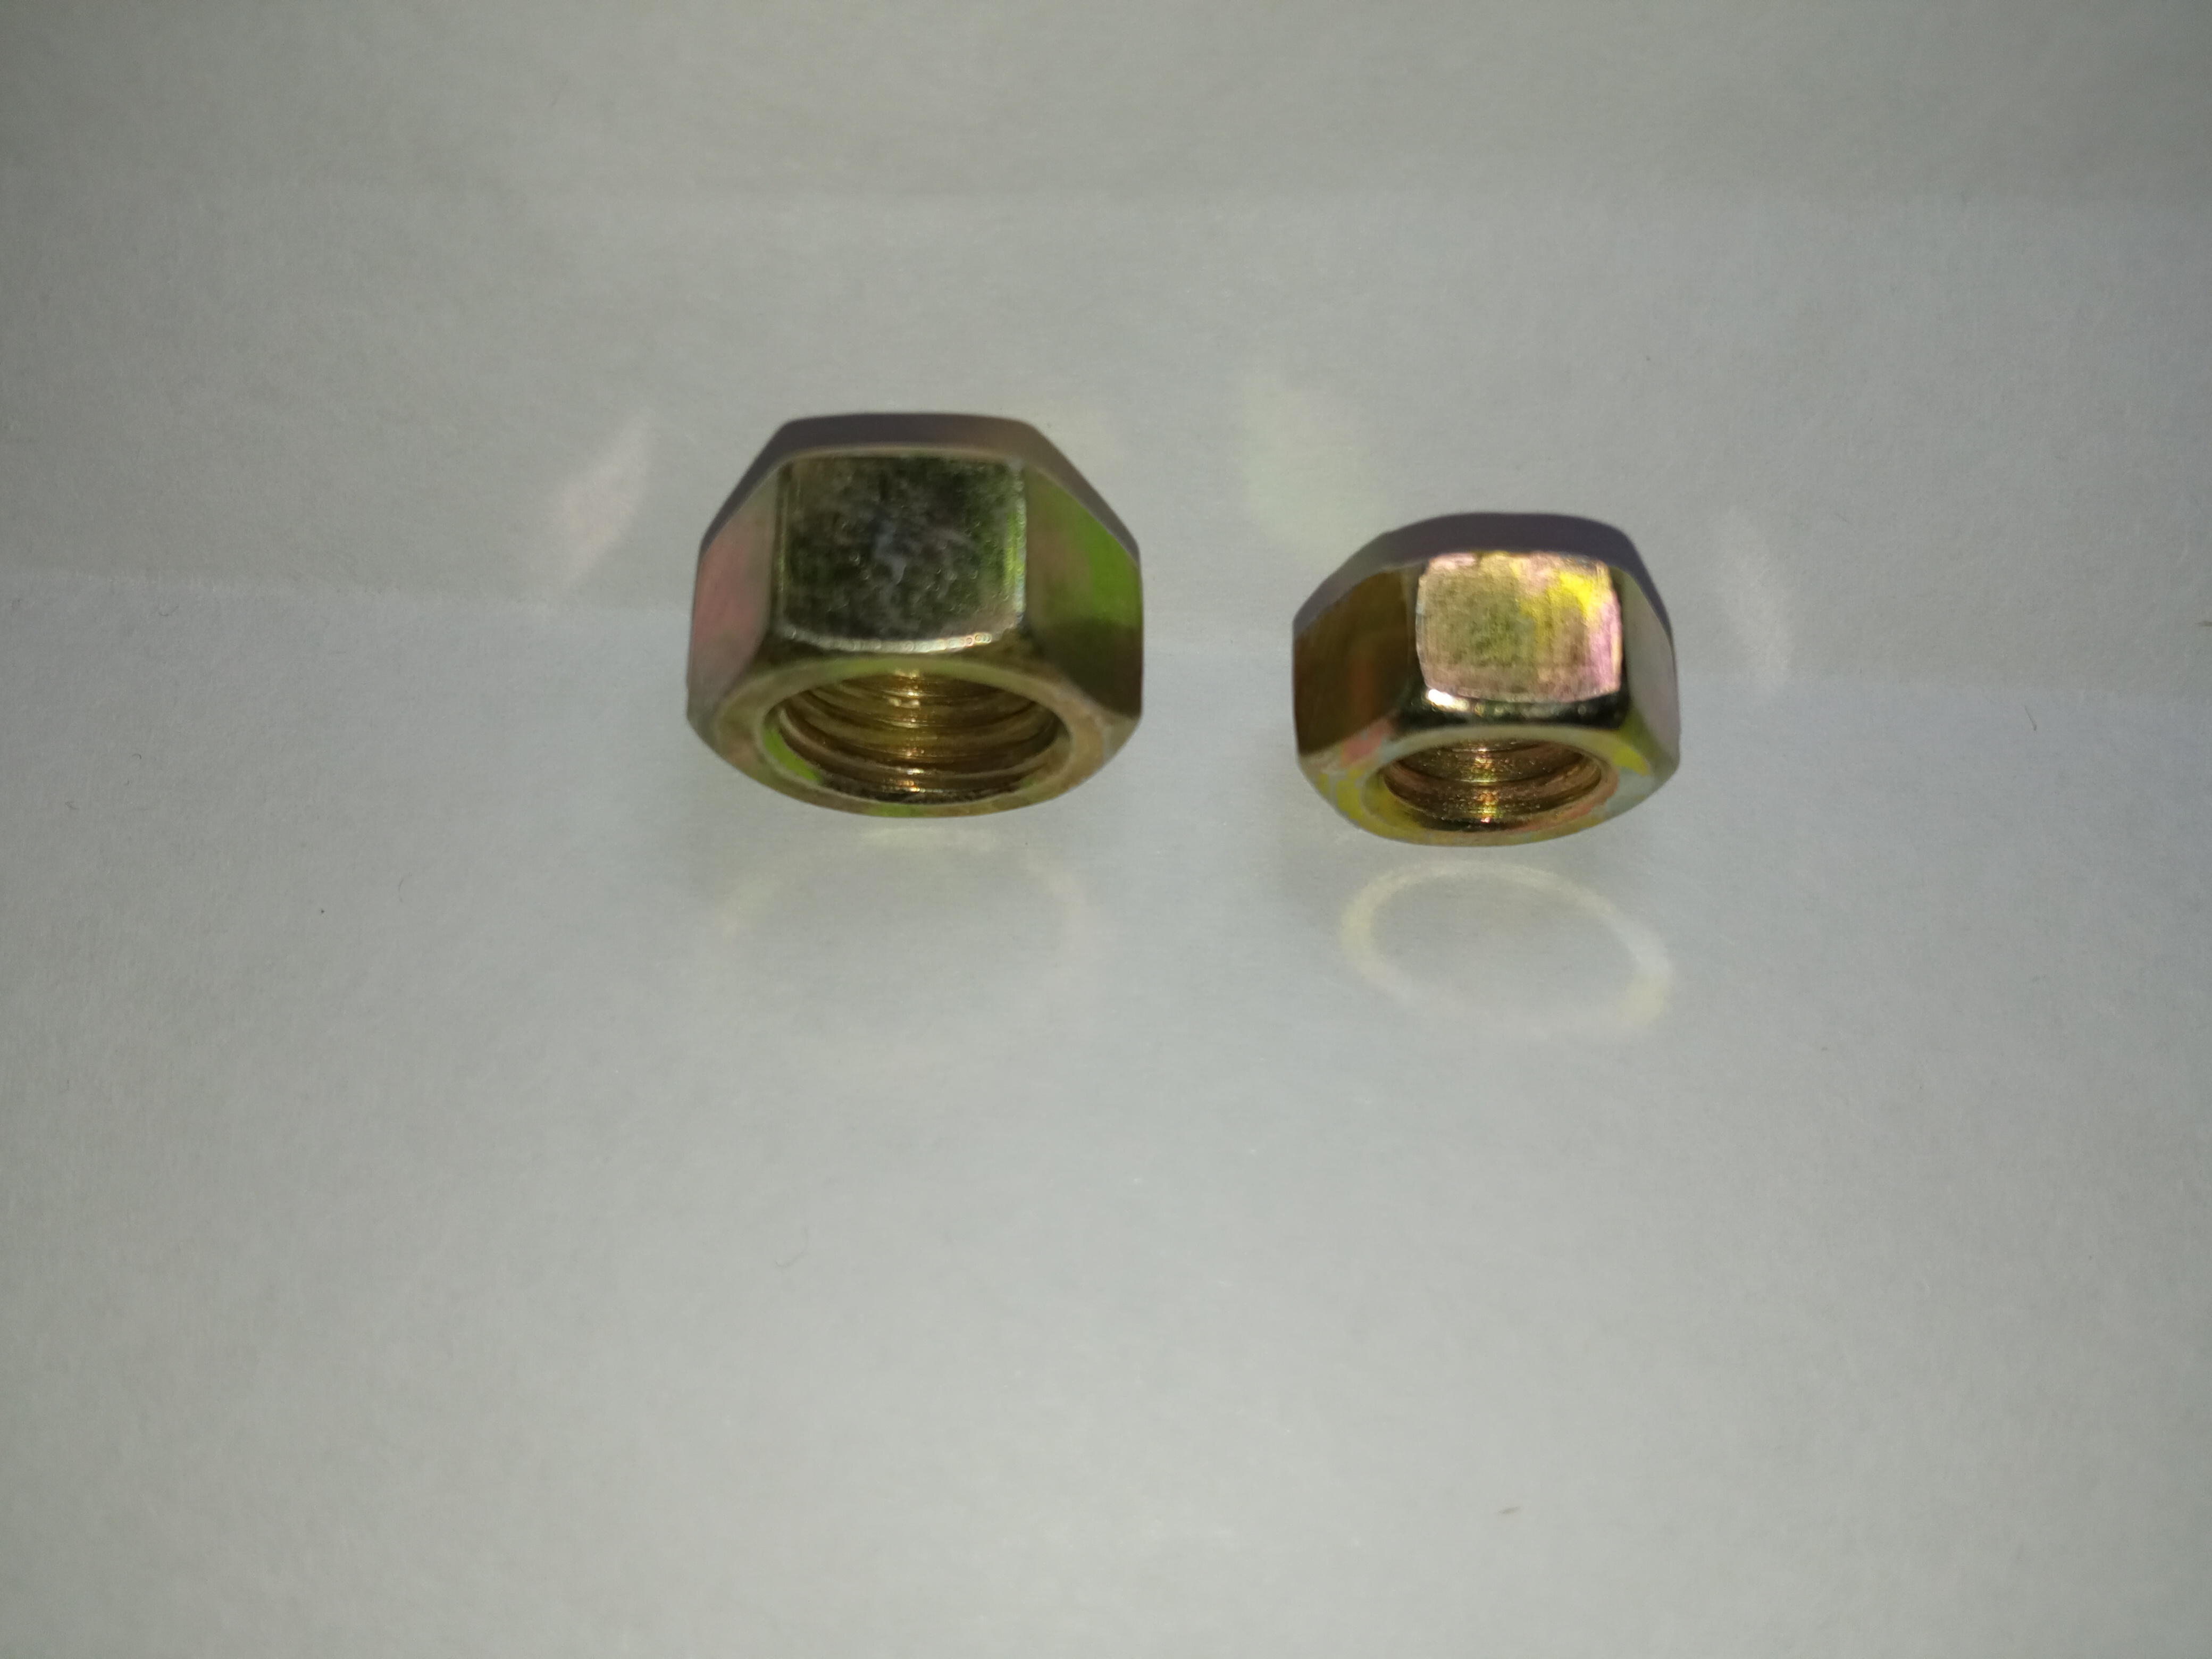m10: (672, 423, 1134, 828)
m8: (1278, 552, 1677, 840)
